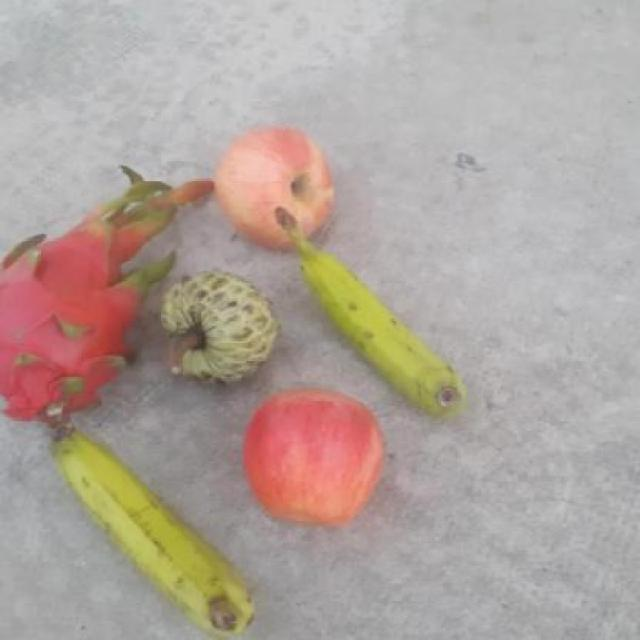apple: (242, 384, 386, 528), (213, 123, 338, 254)
banana: (48, 421, 254, 637), (271, 204, 471, 418)
dragon fruit: (1, 218, 148, 427)
sugar apple: (154, 268, 280, 388)
